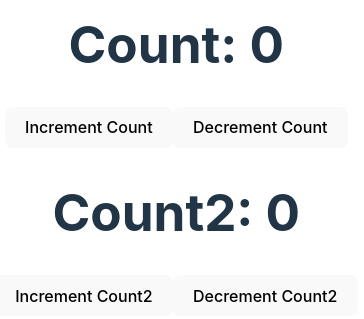
it: App › First count is decremented correctly
Expected: the heading with test id "count display" reads "Count: 0", [68,16,284,72]
Click the button "Decrement Count": {"x": 260, "y": 127} [173,107,348,148]
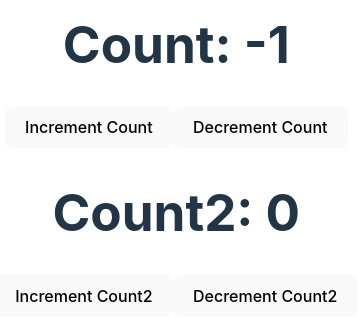
Expected: the heading with test id "count display" reads "Count: -1", [63,16,290,72]
Click the button "Decrement Count": {"x": 260, "y": 127} [173,107,348,148]
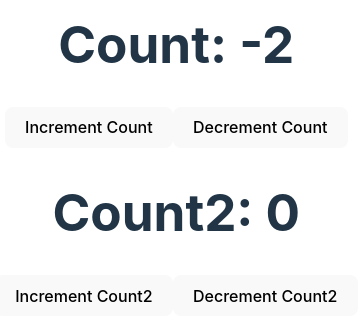
Expected: the heading with test id "count display" reads "Count: -2", [58,16,294,72]
